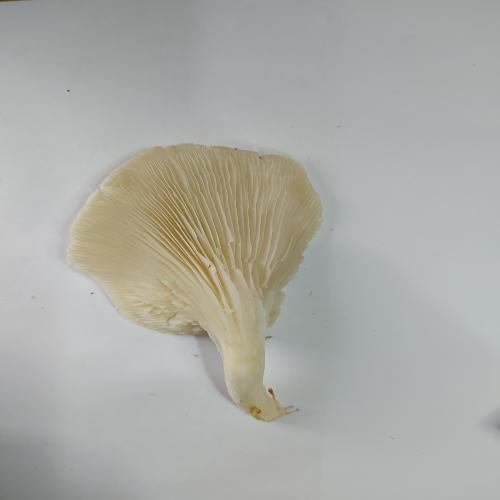Oyster Mushroom: (65, 142, 324, 423)
